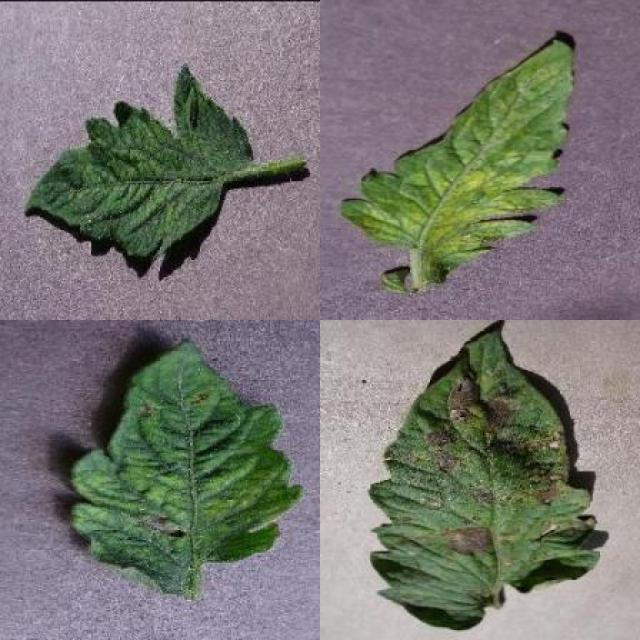Early Blight: (367, 320, 600, 630)
Mosaic Virus: (70, 336, 304, 594), (336, 36, 576, 257), (28, 63, 255, 260)
